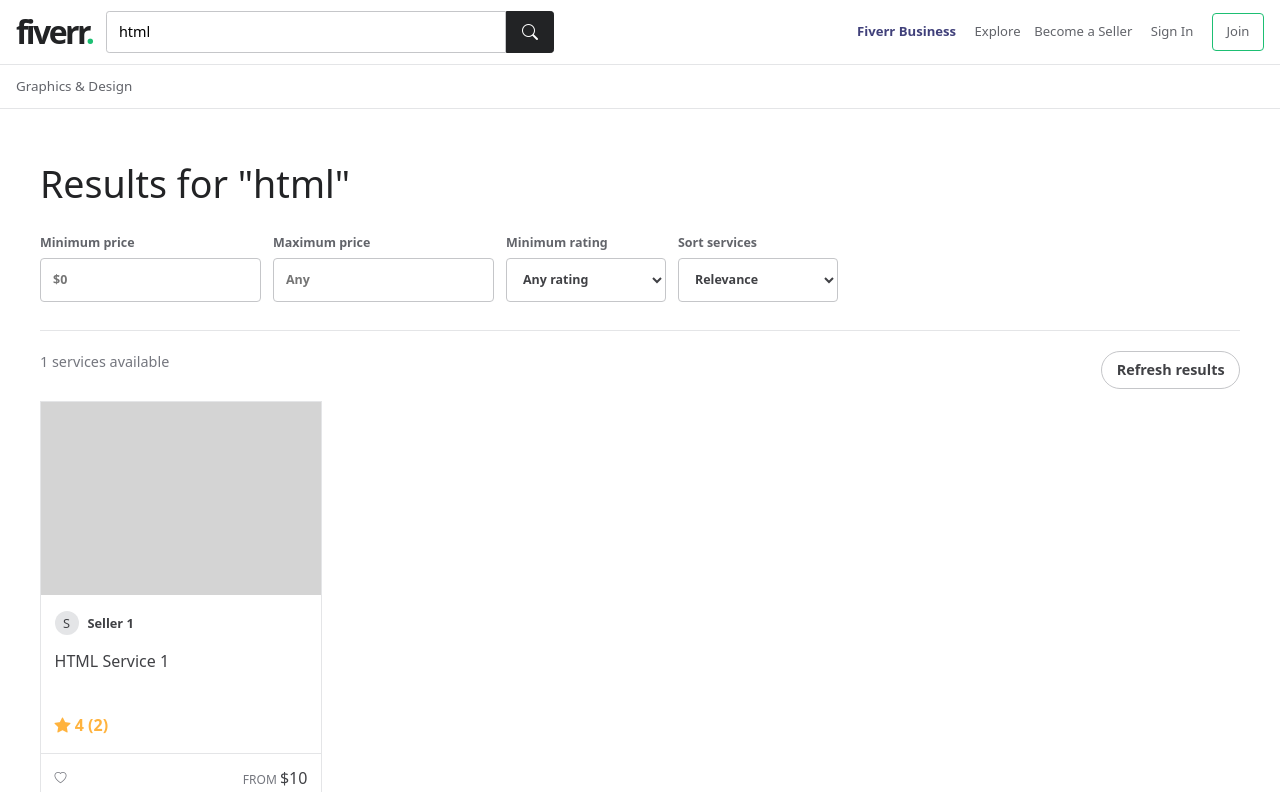
routed Service discovery › keeps cards visible and announces a background refresh
Click the button "Refresh results" at (1171, 370), box [1101,351,1240,389]
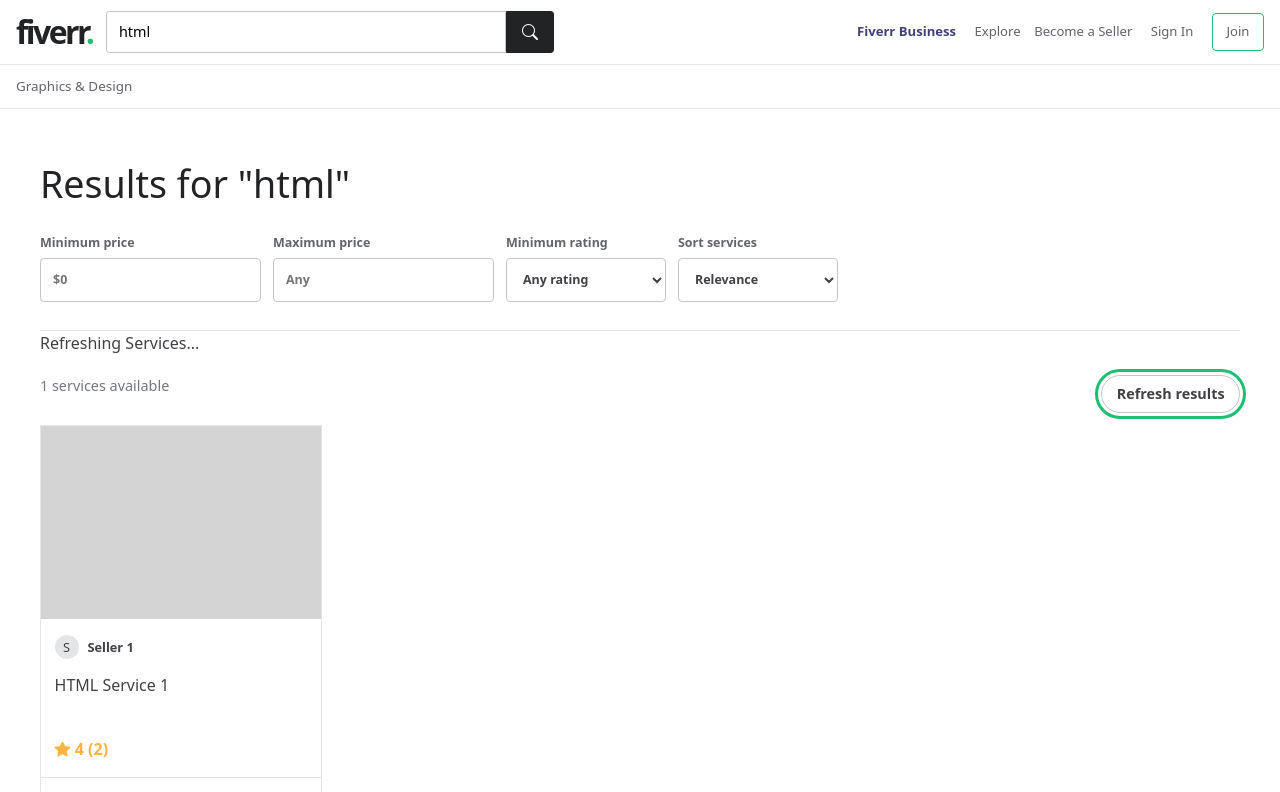
Result: the message reads "Refreshing Services..." at [40,332,199,354]
